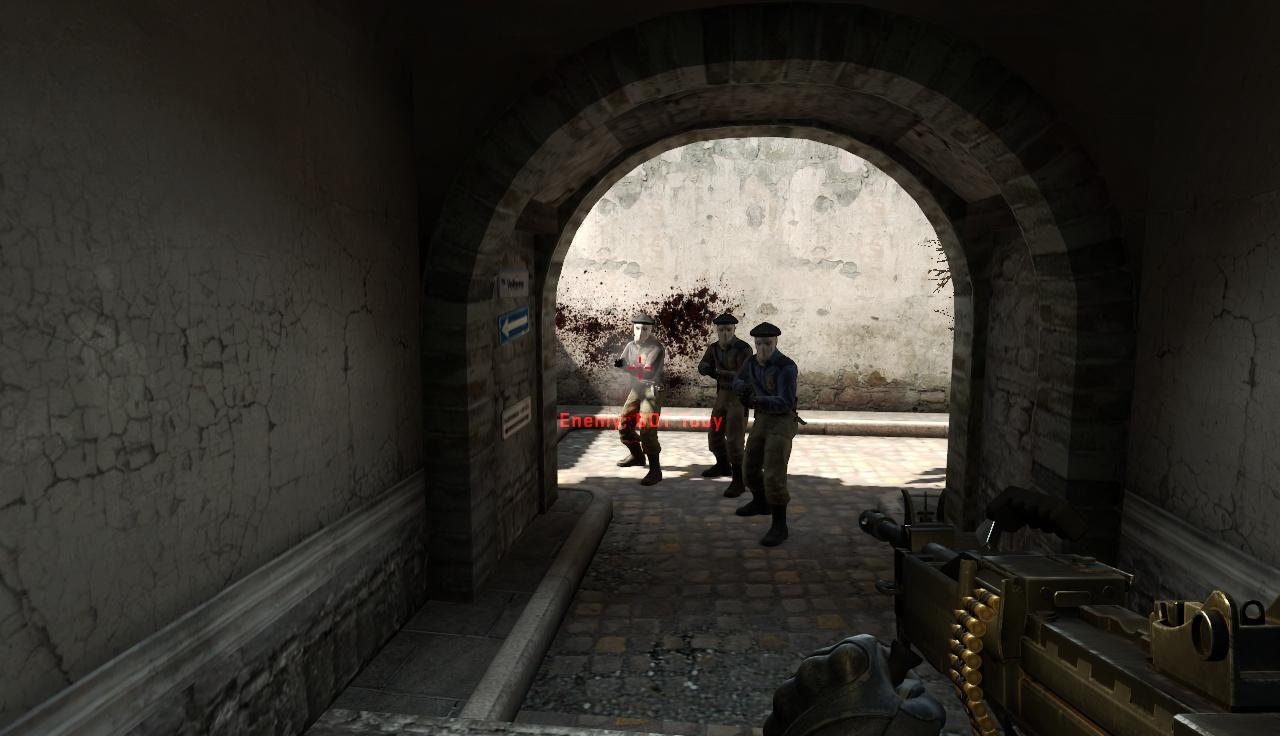rifle: (851, 480, 1280, 736)
tt: (746, 323, 794, 515), (622, 314, 664, 486), (704, 314, 745, 488)
tthead: (755, 324, 777, 359), (717, 314, 736, 344), (634, 315, 652, 341)
